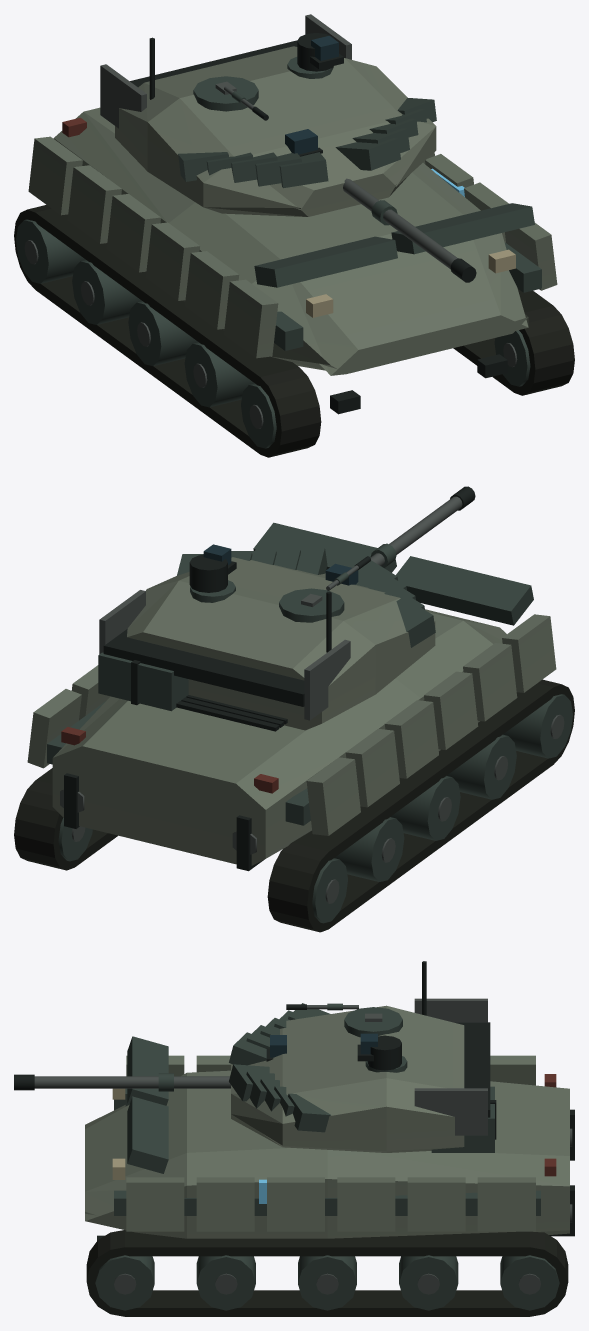
The model's file is lightTank-lod.glb.
3 views of the same model, one above another, from view 1: azimuth 30°, elevation 25°; view 2: azimuth 150°, elevation 25°; view 3: azimuth 270°, elevation 25° (orthographic). The views are drawn at different scales.
Visible parts, largest first — view 1: equipment (×3); view 2: equipment (×3); view 3: equipment (×3).
Boxes of the visible parts, box(x1,y1,x2,y2) form: equipment (×3): box(14, 14, 574, 457); equipment (×3): box(14, 486, 574, 932); equipment (×3): box(14, 961, 574, 1316).
Bounding box in the file's own units: 2.99 × 2.63 × 5.32.
